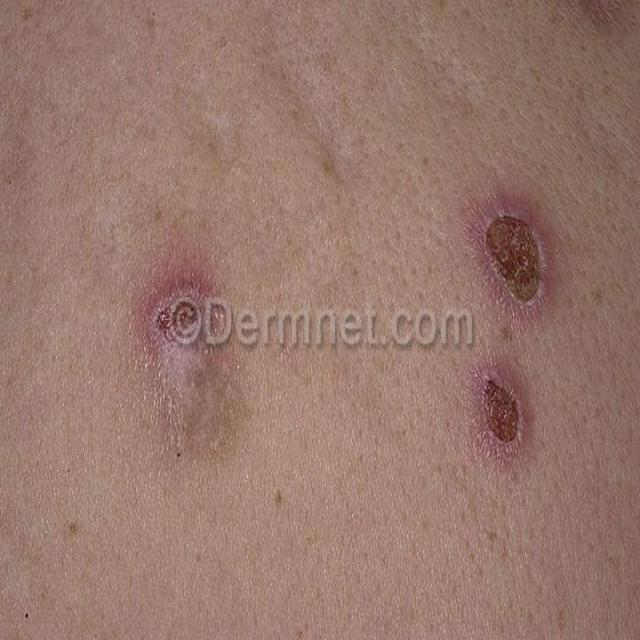Eczema: (467, 194, 550, 318), (466, 363, 534, 468), (136, 280, 210, 374)
